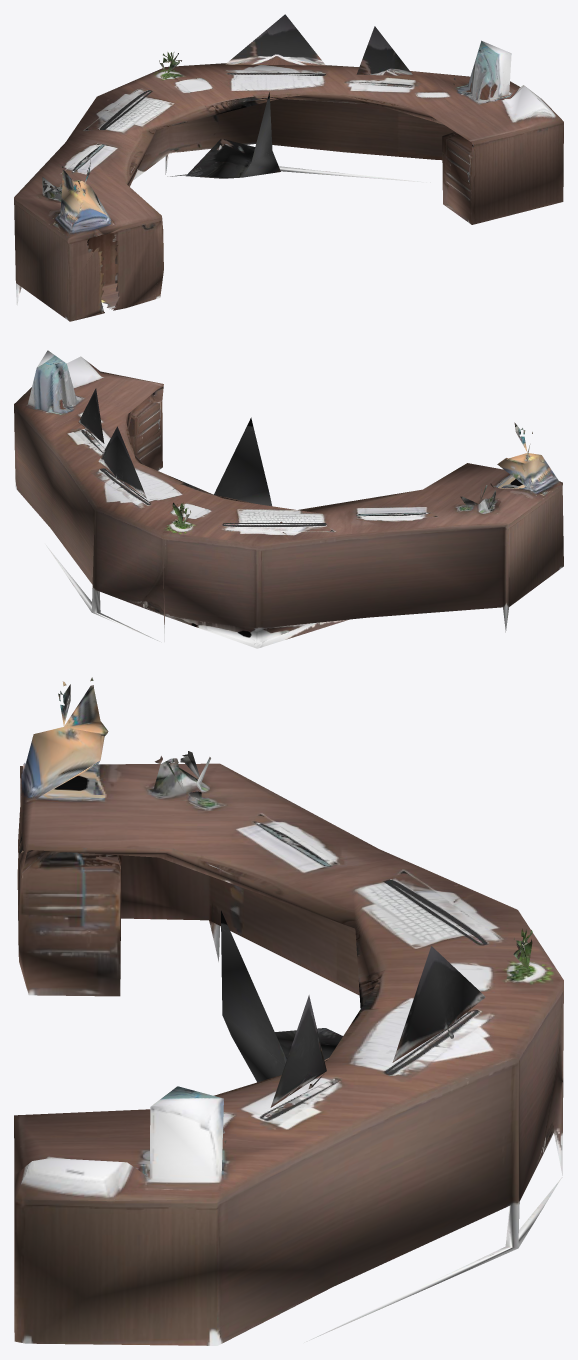
The picture shows the model from 3 angles, top to bottom: view 1: azimuth 30°, elevation 25°; view 2: azimuth 150°, elevation 25°; view 3: azimuth 270°, elevation 25°; orthographic projection. The views are drawn at different scales.
Visible parts, largest first — view 1: Mesh1.0; view 2: Mesh1.0; view 3: Mesh1.0.
Part boxes in pixels (left/top/right/bottom): Mesh1.0: left=14, top=14, right=563, bottom=321; Mesh1.0: left=14, top=350, right=563, bottom=648; Mesh1.0: left=14, top=677, right=563, bottom=1345.
Size of the model in its own units: 198 by 65.15 by 105.
1 material, 1 textured.
